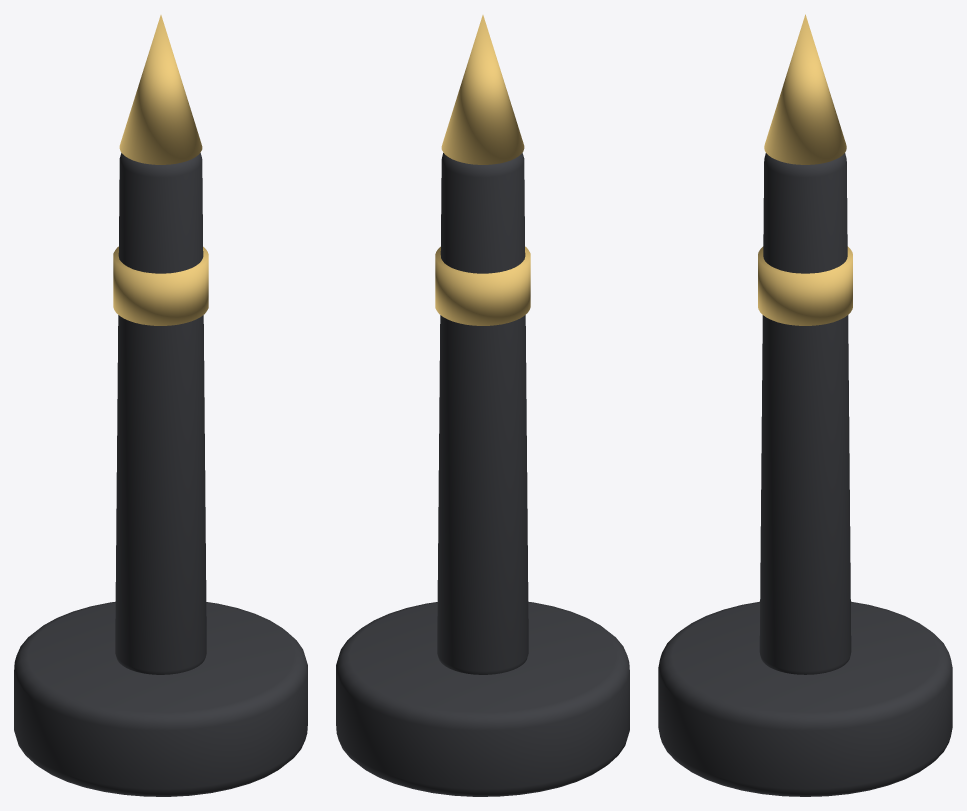
Rendered from articles.glb.
3 renders of one model, left to right at view 1: azimuth 30°, elevation 25°; view 2: azimuth 150°, elevation 25°; view 3: azimuth 270°, elevation 25°, orthographic.
Parts seen in each view (by area): view 1: articles; view 2: articles; view 3: articles.
Boxes of the visible parts, x1=… form: articles: x1=14, y1=15, x2=307, y2=796; articles: x1=336, y1=15, x2=629, y2=796; articles: x1=658, y1=14, x2=952, y2=796.
Size of the model in its own units: 0.3203 by 0.8701 by 0.3203.
